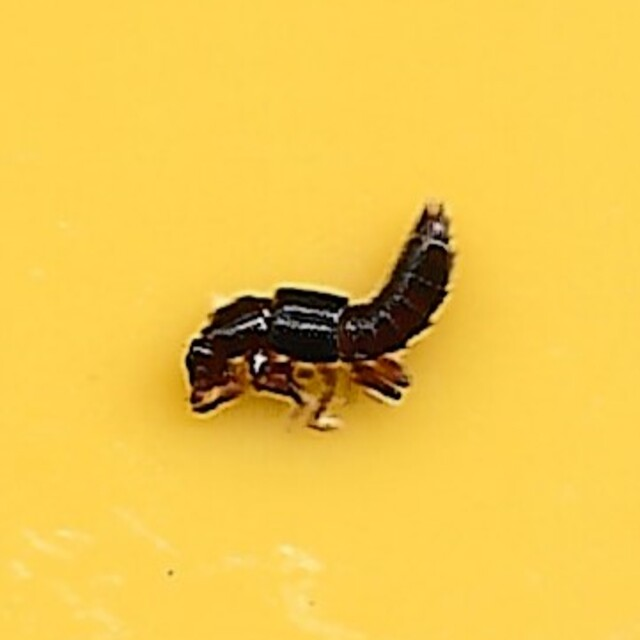Coleoptera: (177, 197, 463, 443)
